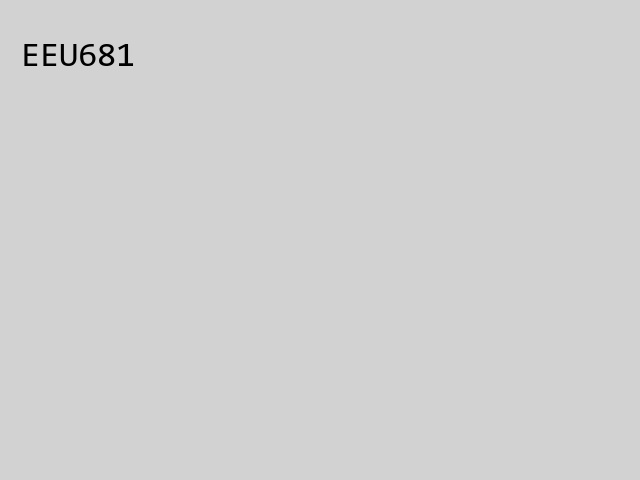OCR_AREA: (17, 40, 139, 70)
